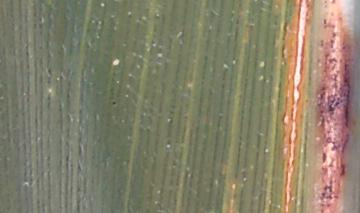tarspot: (111, 100, 118, 106)
